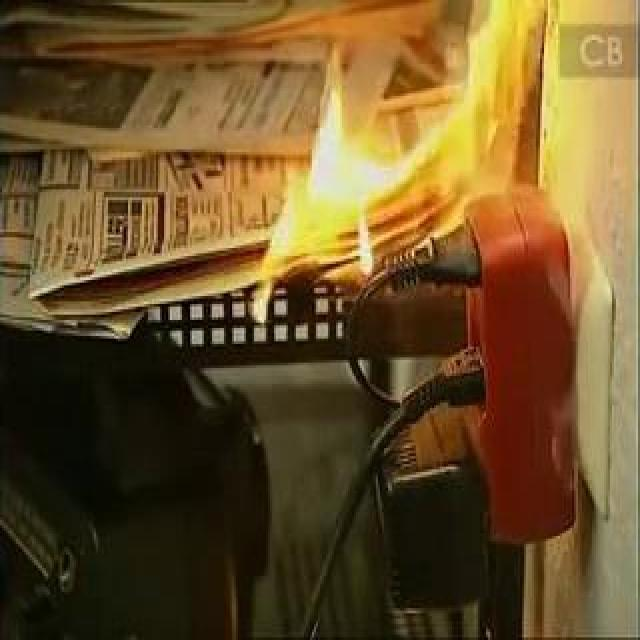Fire: (228, 3, 532, 320)
